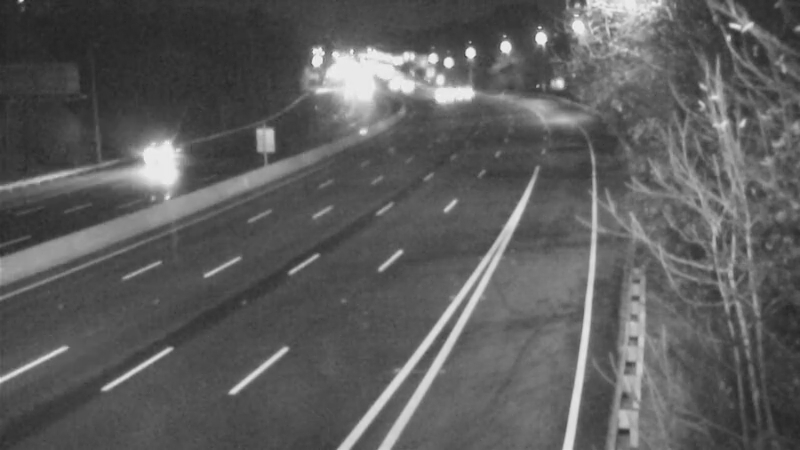vehicle: (119, 117, 199, 197), (416, 71, 466, 121)
